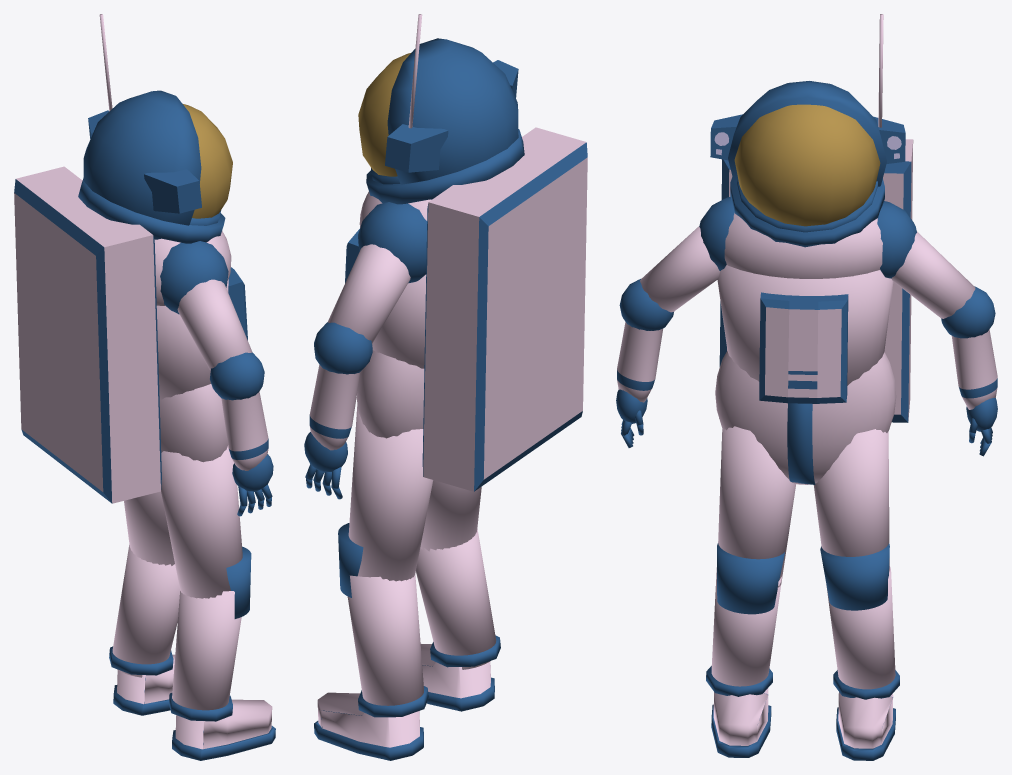
The model's file is SpaceMarine_2022-06.fbx.
3 renders of one model, left to right at view 1: azimuth 30°, elevation 25°; view 2: azimuth 150°, elevation 25°; view 3: azimuth 270°, elevation 25°, orthographic. The views are drawn at different scales.
Visible parts, largest first — view 1: SpaceMarine01.002; view 2: SpaceMarine01.002; view 3: SpaceMarine01.002.
Boxes of the visible parts, box(x1,y1,x2,y2) form: SpaceMarine01.002: box(14, 14, 275, 760); SpaceMarine01.002: box(304, 14, 587, 760); SpaceMarine01.002: box(616, 14, 997, 760).
Bounding box in the file's own units: 58 × 210 × 104.
